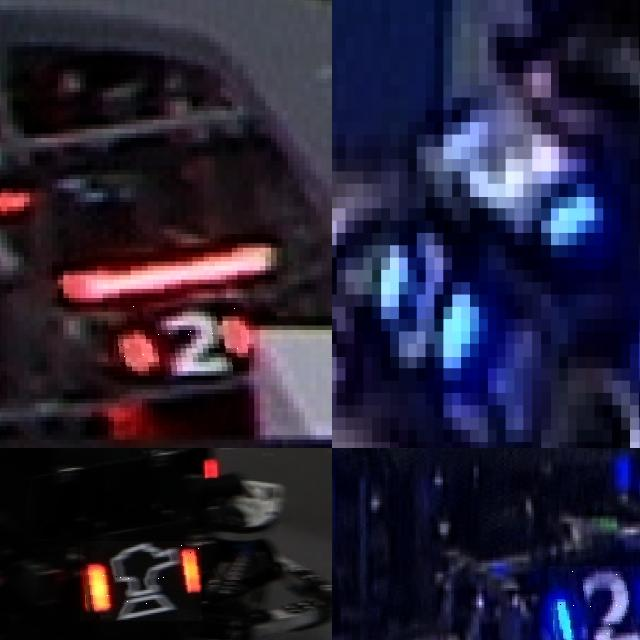B2: (548, 565, 640, 640)
B3: (363, 208, 479, 368)
R2: (108, 302, 249, 376)
Rs: (80, 541, 202, 621)
